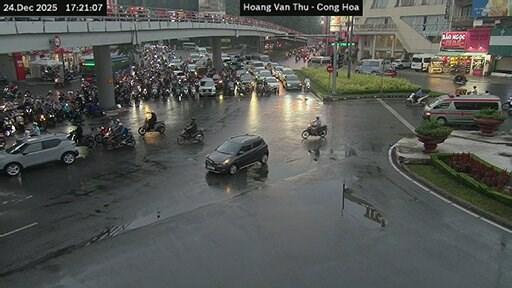motorbike: (102, 131, 134, 149), (67, 131, 92, 147), (137, 121, 165, 135), (176, 129, 201, 144), (300, 124, 326, 138), (93, 126, 111, 142), (86, 103, 105, 116), (405, 93, 427, 104), (35, 113, 47, 130), (502, 95, 511, 115), (259, 85, 271, 94), (453, 76, 466, 84), (0, 131, 5, 148), (304, 81, 310, 90)
